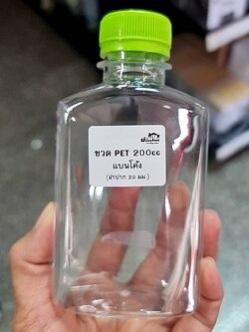plastic: (56, 10, 200, 318)
